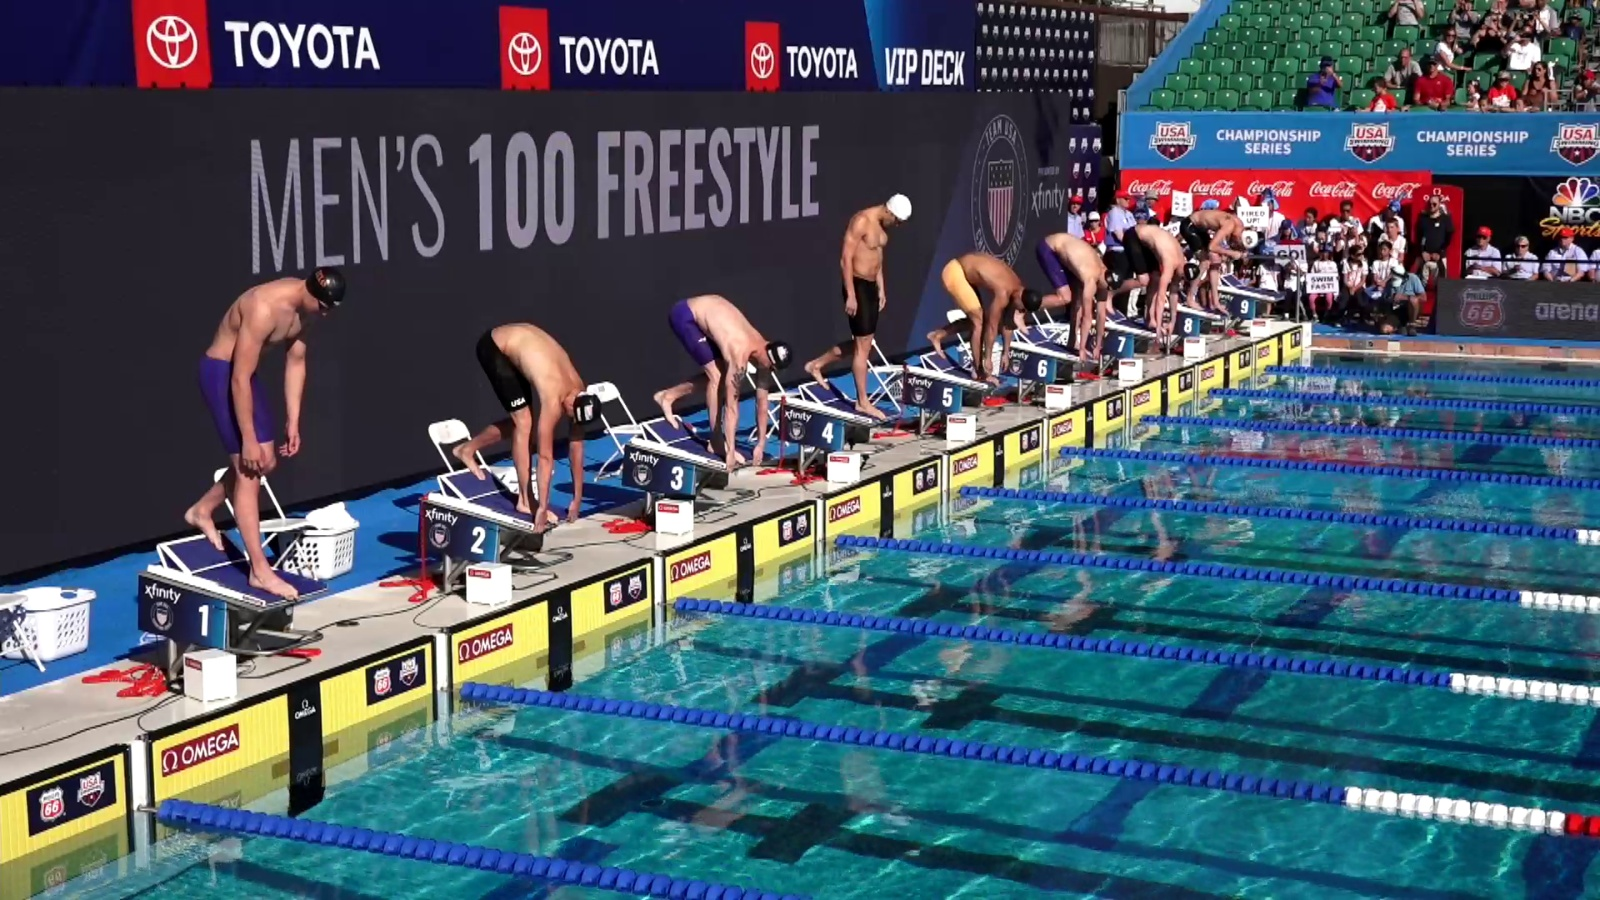swimmerw: (193, 273, 302, 604), (453, 319, 603, 521), (654, 288, 787, 457), (816, 196, 913, 420), (933, 245, 1042, 387), (1033, 233, 1119, 373), (1113, 220, 1203, 351), (1177, 209, 1253, 320)
